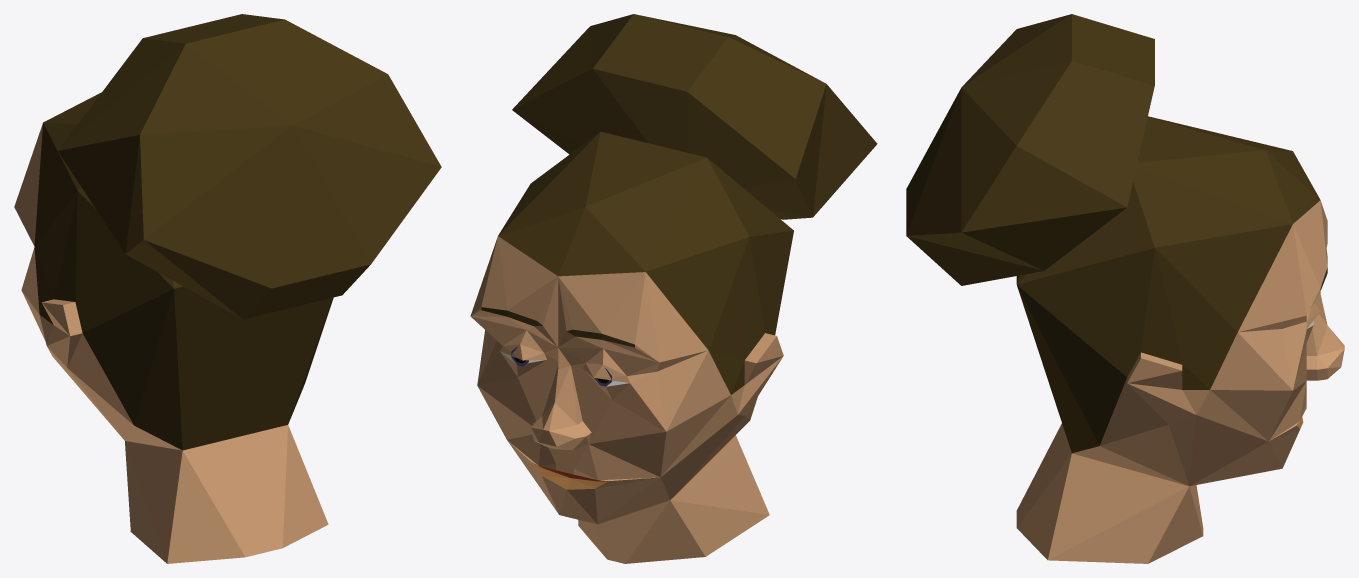
The model's file is npc_chat_woman_7_0.obj.
The picture shows the model from 3 angles, left to right: view 1: azimuth 30°, elevation 25°; view 2: azimuth 150°, elevation 25°; view 3: azimuth 270°, elevation 25°; orthographic projection. The views are drawn at different scales.
Bounding box in the file's own units: 0.75 × 1.23 × 0.9922.
